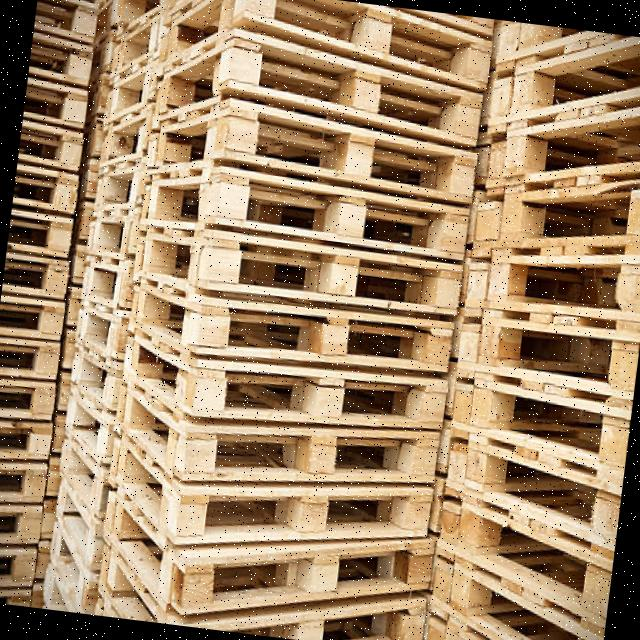Wooden-Pallets: (109, 431, 438, 555), (144, 96, 477, 210), (124, 325, 449, 432), (136, 224, 465, 321)
